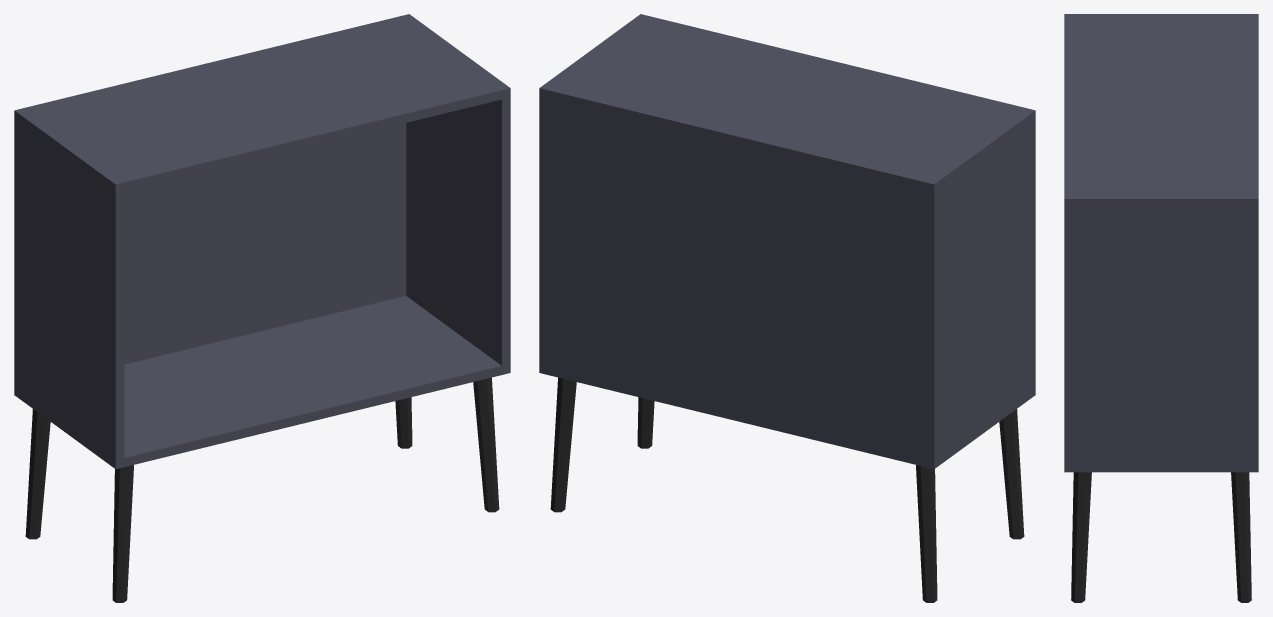
Rendered from Dresser3_C2.fbx.
The picture shows the model from 3 angles, left to right: view 1: azimuth 30°, elevation 25°; view 2: azimuth 150°, elevation 25°; view 3: azimuth 270°, elevation 25°; orthographic projection. The views are drawn at different scales.
Visible parts, largest first — view 1: Dresser3_C2; view 2: Dresser3_C2; view 3: Dresser3_C2.
Part boxes in pixels (x1,y1,x2,y2): Dresser3_C2: (14,14,510,602); Dresser3_C2: (539,14,1035,602); Dresser3_C2: (1064,14,1258,602).
Bounding box in the file's own units: 90 × 92.28 × 40.
